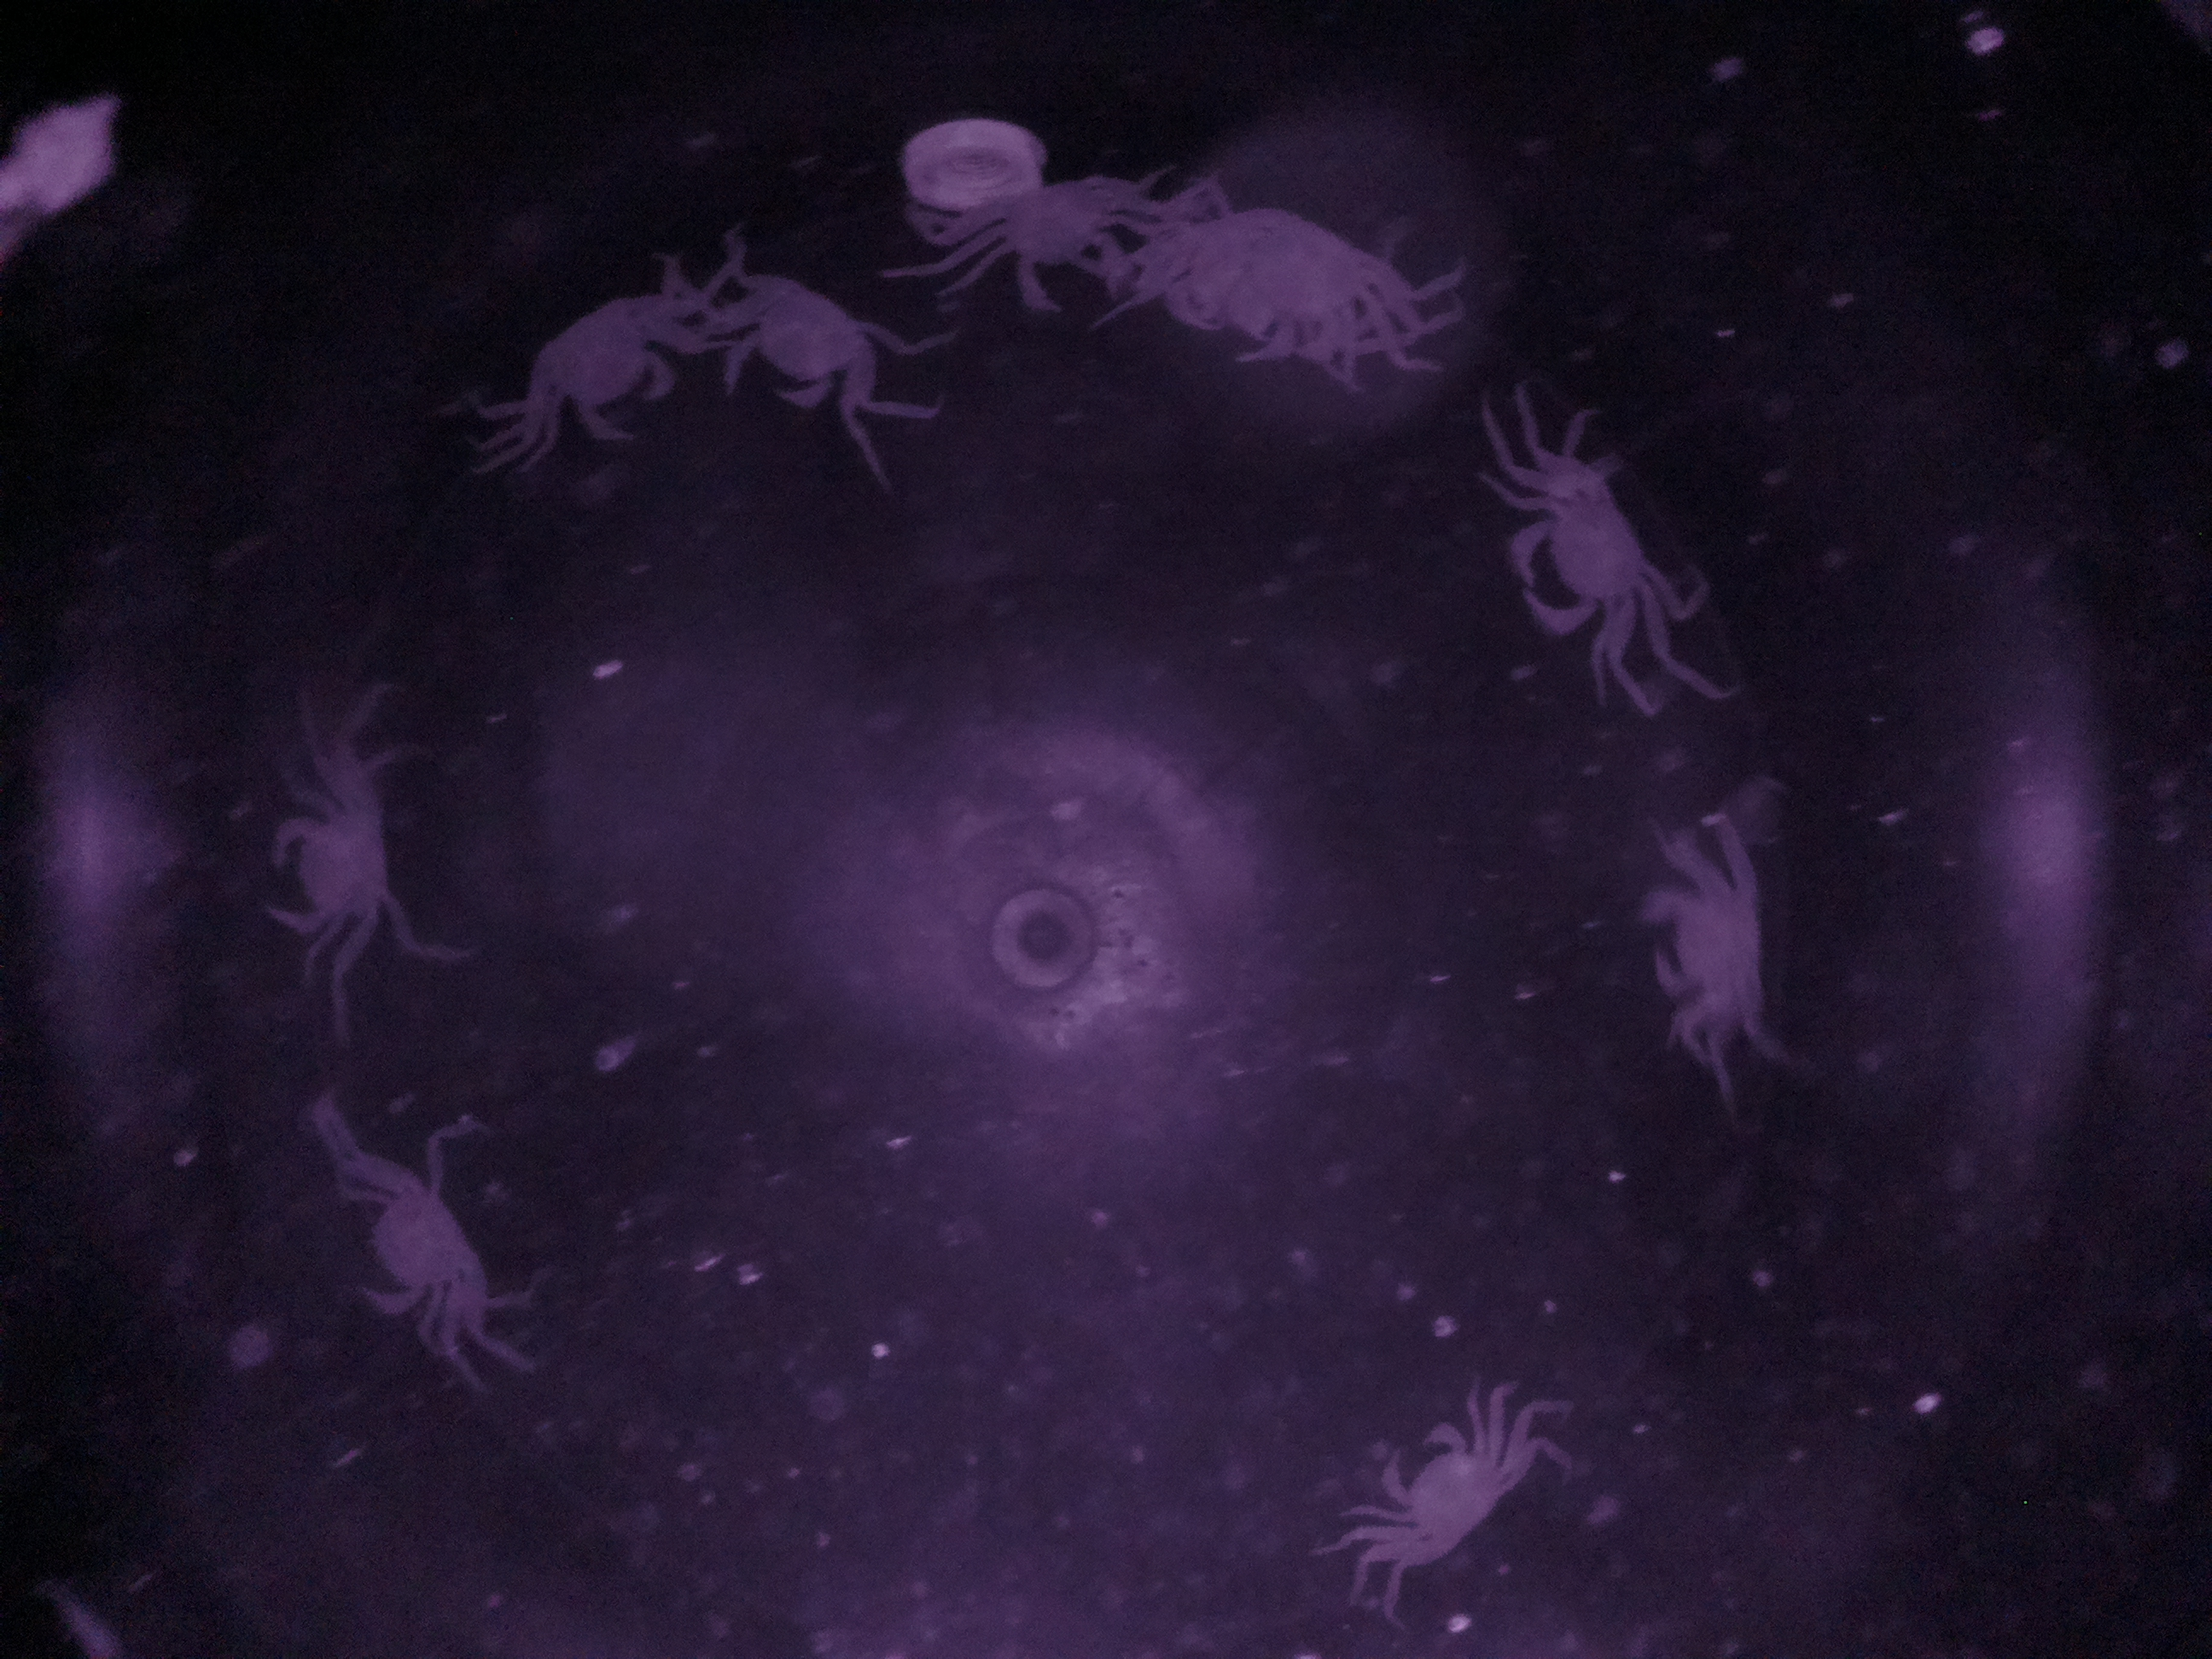Crab: (308, 1129, 503, 1330), (1498, 458, 1674, 674), (246, 755, 430, 958), (977, 148, 1158, 329), (695, 265, 878, 425), (536, 275, 681, 453), (1362, 1398, 1512, 1567)
